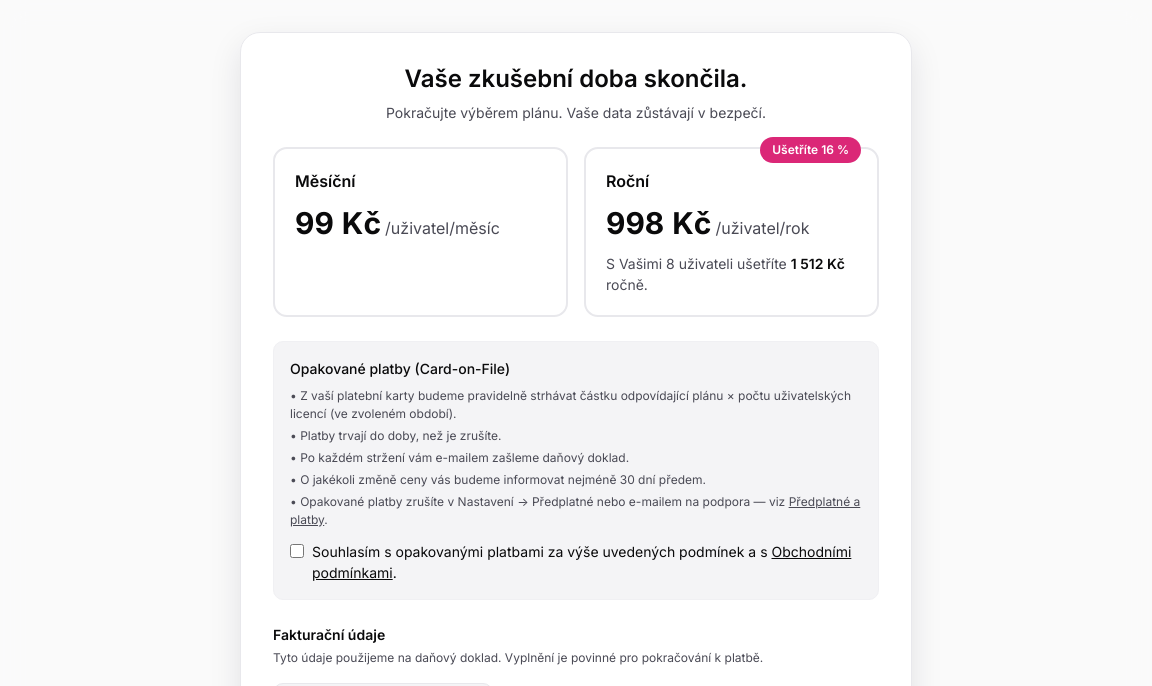
TrialExpiredGate › enables the primary CTA after selecting annual + ticking recurring-payment consent
expect the text "S Vašimi 8 uživateli ušetříte 1 512 Kč ročně." is shown: met, box [606,253,857,295]
Click the radio button labelled "Roční". click: (732, 232)
box: [584,147,879,317]
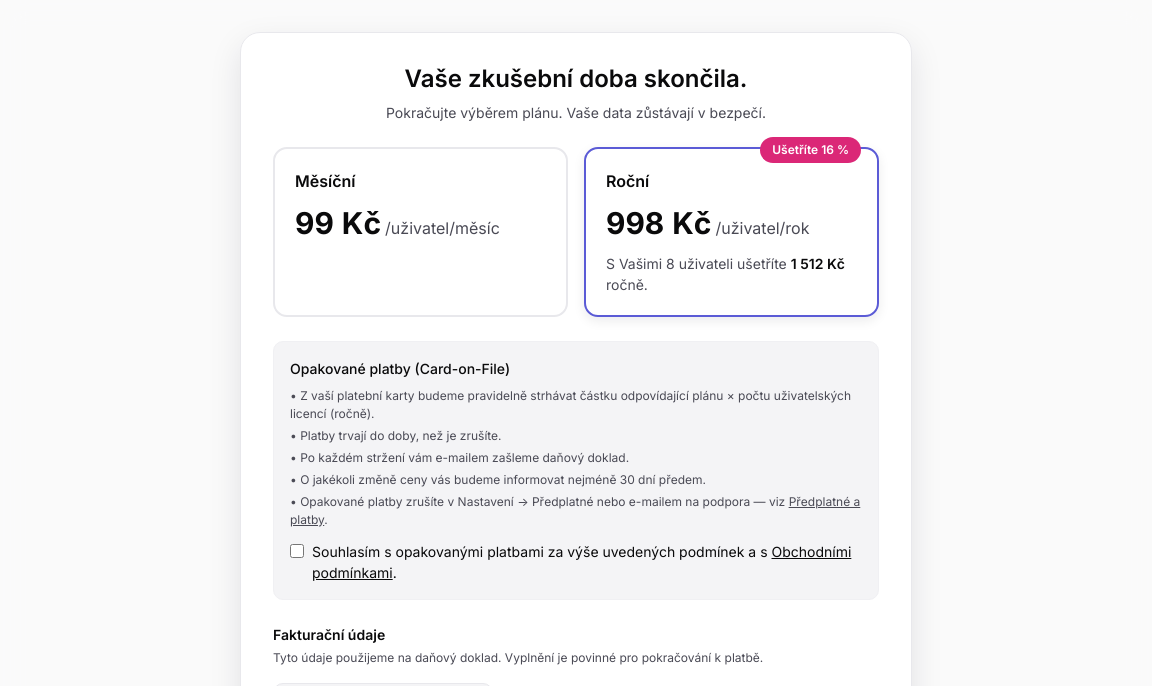
expect the radio button labelled "Roční" is checked: met, box [584,147,879,317]
Click the checkbox labelled "Souhlasím s opakovanými platbami". click: (297, 551)
box: [290,543,304,559]
(page scrolled)
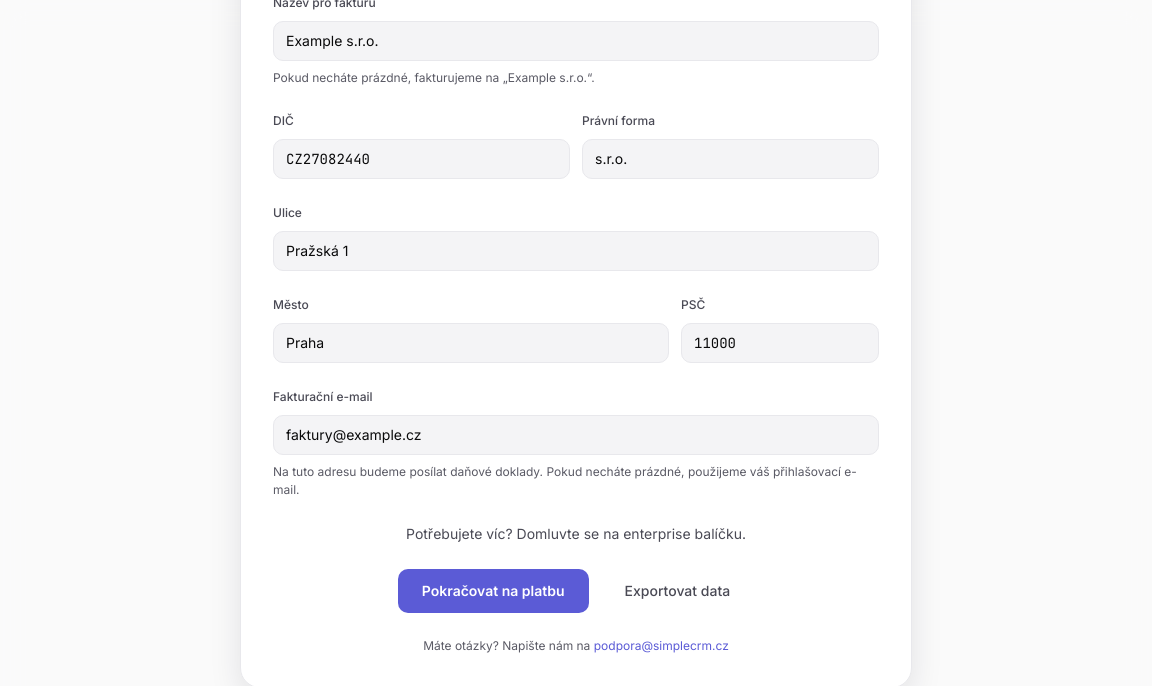
expect the button "Pokračovat na platbu" is enabled: met, box [398,569,589,613]
